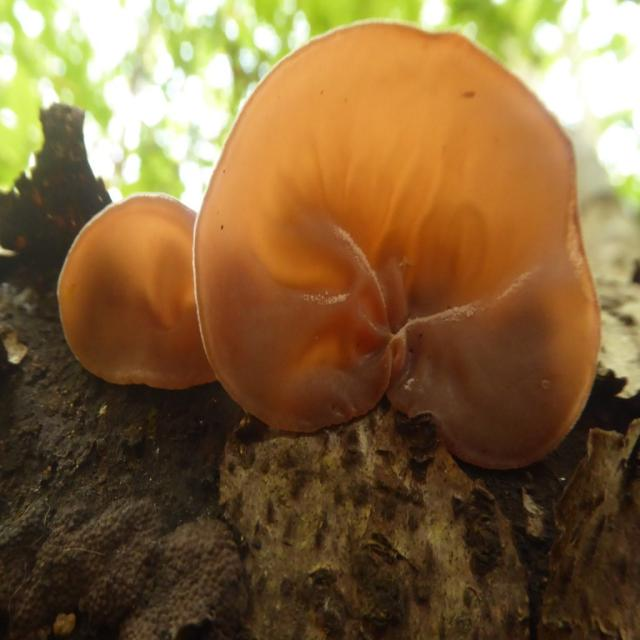Fase Muda: (190, 19, 602, 478), (52, 188, 225, 392)
